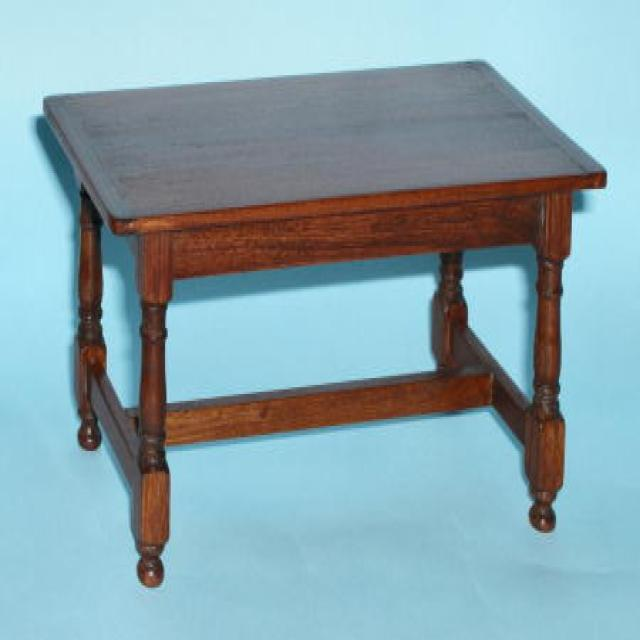table: (42, 46, 607, 586)
